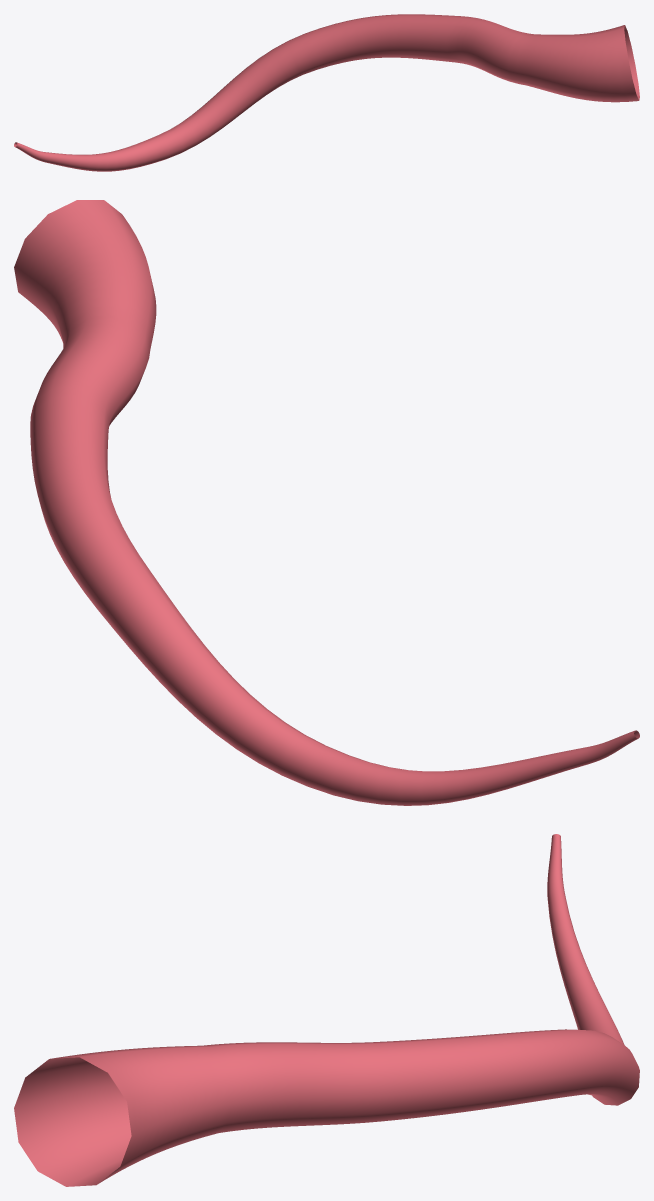
The picture shows the model from 3 angles, top to bottom: view 1: azimuth 30°, elevation 25°; view 2: azimuth 150°, elevation 25°; view 3: azimuth 270°, elevation 25°; orthographic projection. The views are drawn at different scales.
Parts seen in each view (by area): view 1: ZA_d918ac5bdbf975e0; view 2: ZA_d918ac5bdbf975e0; view 3: ZA_d918ac5bdbf975e0.
Part boxes in pixels (x1,y1,x2,y2): ZA_d918ac5bdbf975e0: (14, 14, 639, 171); ZA_d918ac5bdbf975e0: (14, 200, 639, 805); ZA_d918ac5bdbf975e0: (14, 834, 639, 1186).
Size of the model in its own units: 0.0441 by 0.0142 by 0.0279.
